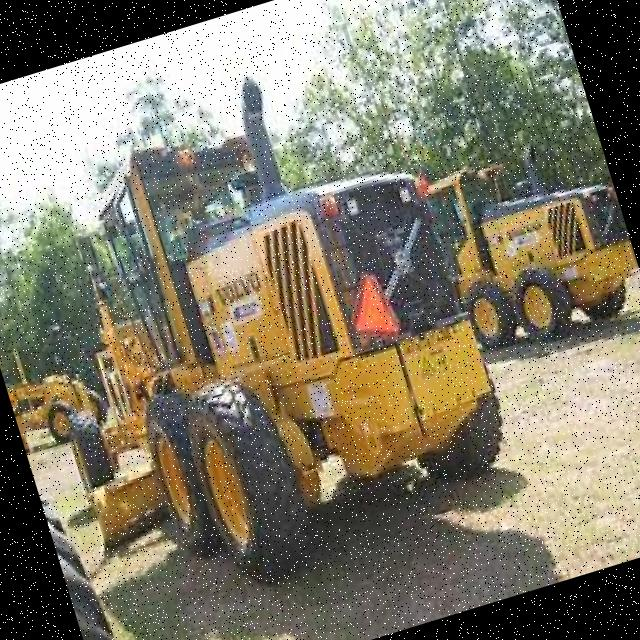Grader: (0, 51, 532, 615)
